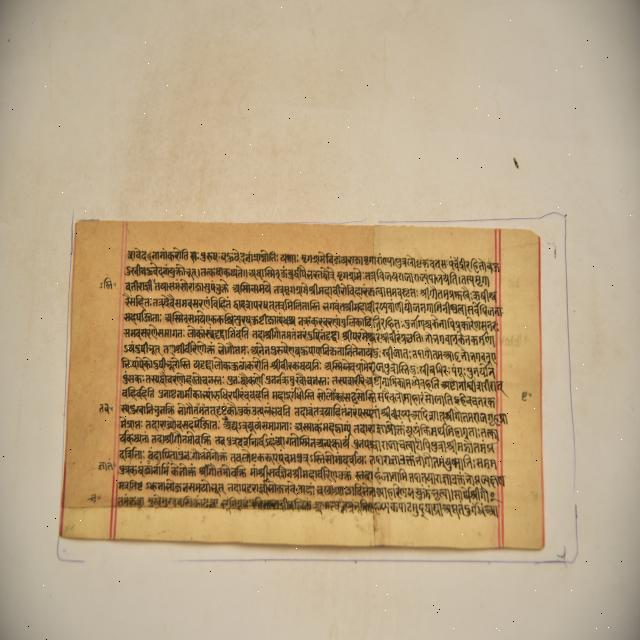text_paragraph: (58, 219, 542, 550)
